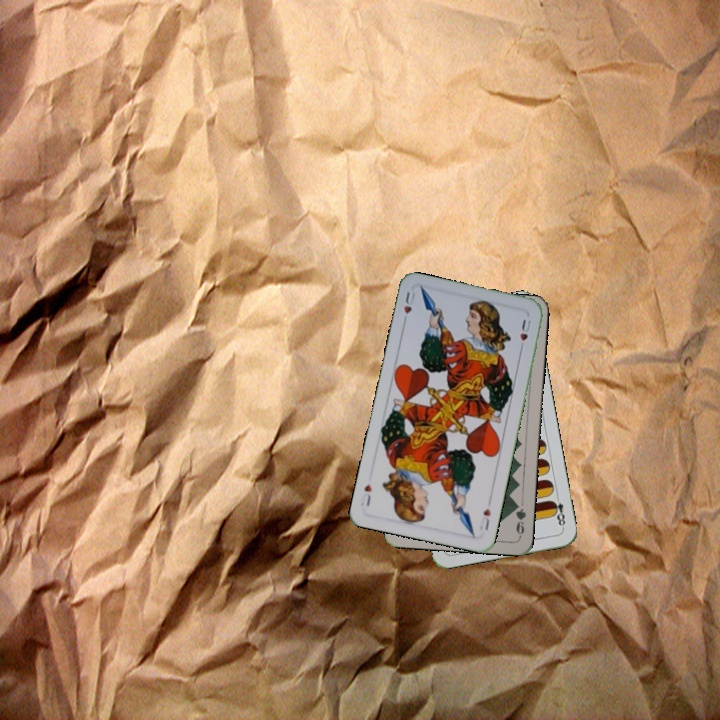E8: (547, 491, 568, 531)
G9: (510, 498, 528, 539)
HU: (399, 287, 418, 327), (476, 504, 493, 533)
